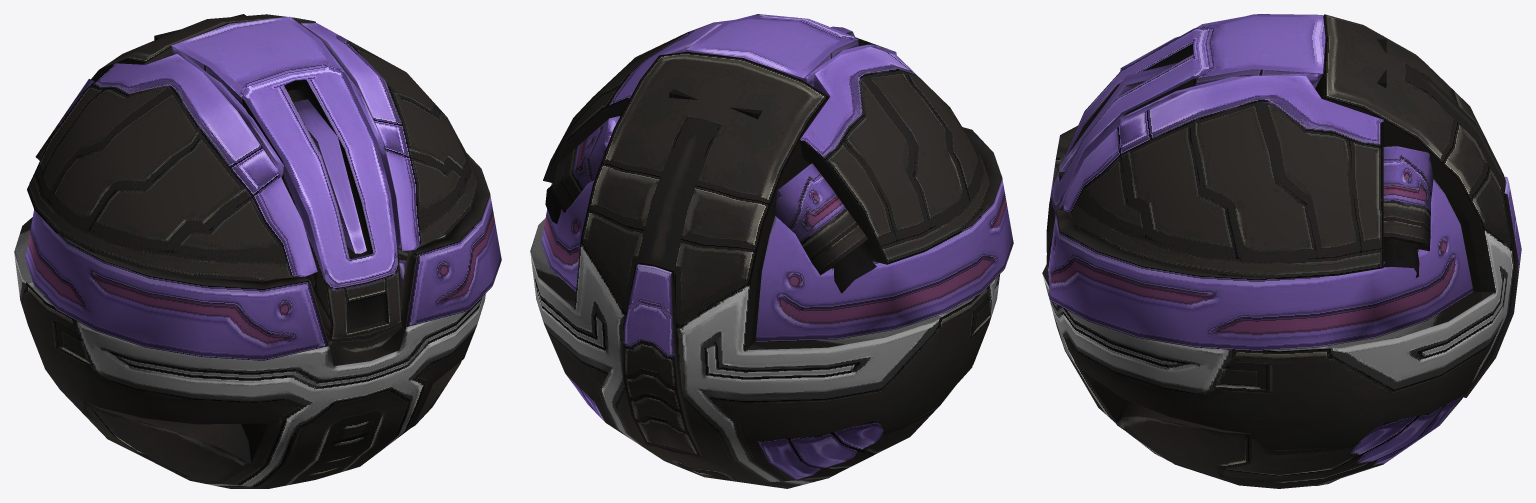
Rendered from omega-ball.glb.
The picture shows the model from 3 angles, left to right: view 1: azimuth 30°, elevation 25°; view 2: azimuth 150°, elevation 25°; view 3: azimuth 270°, elevation 25°; orthographic projection.
Size of the model in its own units: 1.77 by 1.75 by 1.77.
Materials: 1 (1 with a texture image).
